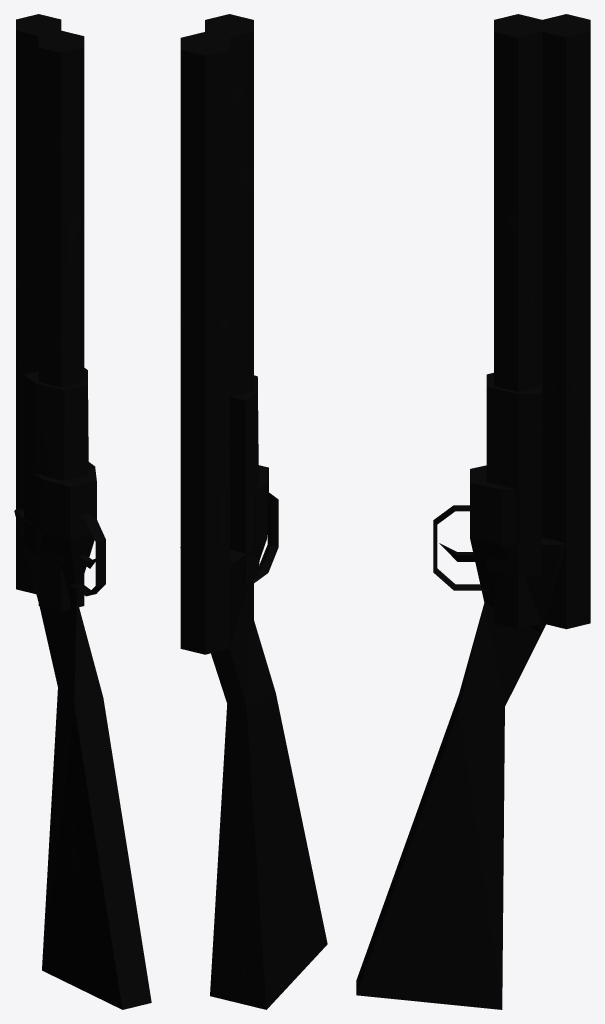
File: Marlin336.fbx
3 views of the same model, side by side, from view 1: azimuth 30°, elevation 25°; view 2: azimuth 150°, elevation 25°; view 3: azimuth 270°, elevation 25° (orthographic). The views are drawn at different scales.
Parts seen in each view (by area): view 1: asset_Marlin336.001; view 2: asset_Marlin336.001; view 3: asset_Marlin336.001.
Part boxes in pixels (x1,y1,x2,y2): asset_Marlin336.001: (14, 14, 151, 1009); asset_Marlin336.001: (180, 14, 327, 1009); asset_Marlin336.001: (356, 14, 590, 1009).
Size of the model in its own units: 0.0356 by 0.582 by 0.1272.
